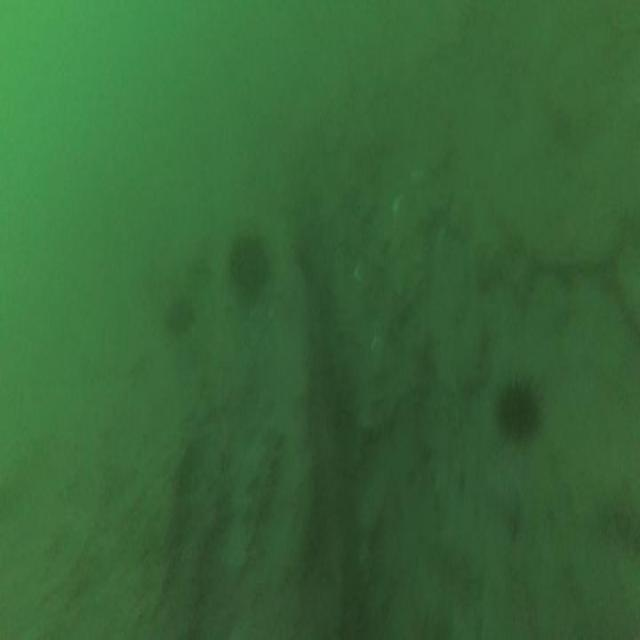echinus: (498, 382, 538, 444), (231, 240, 267, 294), (166, 304, 190, 334)
